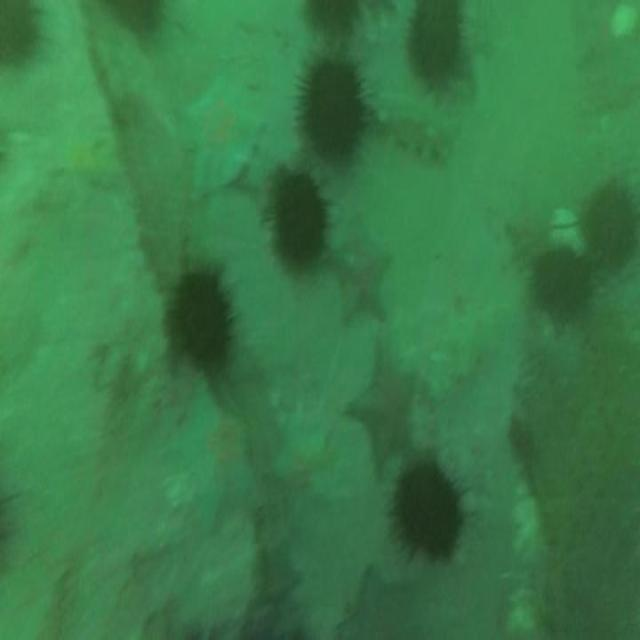echinus: (163, 276, 230, 373), (396, 463, 462, 559), (302, 60, 364, 158), (581, 180, 640, 267), (274, 177, 326, 269), (410, 2, 463, 88), (533, 248, 593, 322), (0, 0, 44, 66)
holothurian: (379, 82, 456, 166)
scallop: (612, 3, 639, 38)
starfish: (165, 389, 257, 529), (180, 81, 266, 199), (345, 327, 414, 466), (329, 216, 394, 322), (268, 419, 332, 523)
